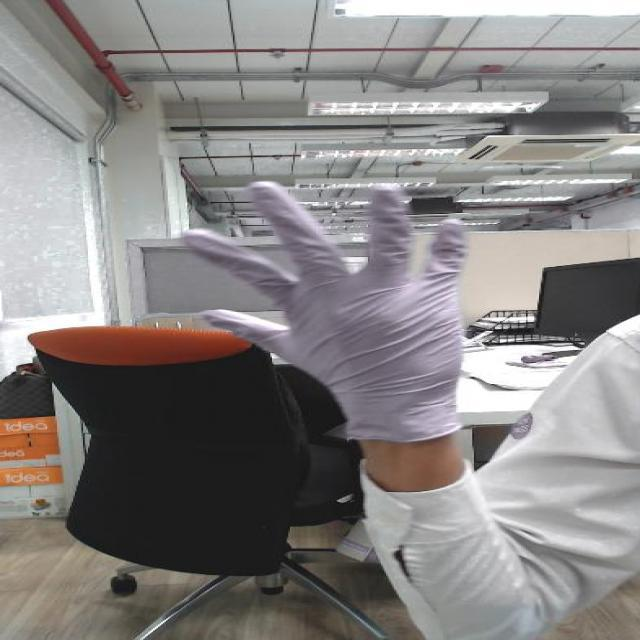with_gloves: (165, 169, 502, 374)
